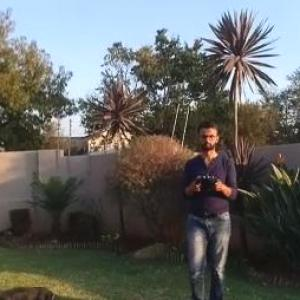follow: (179, 117, 241, 299)
null: (1, 273, 77, 299)
